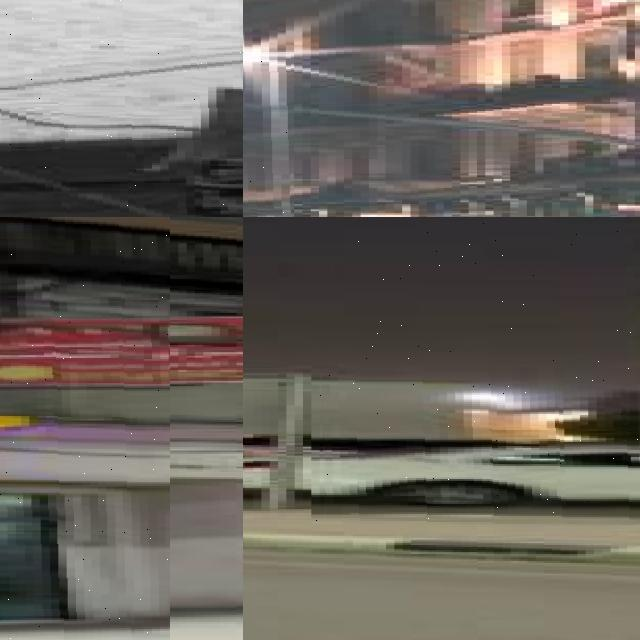street light: (311, 217, 640, 524), (0, 217, 170, 640), (0, 0, 243, 217), (243, 53, 290, 217)
